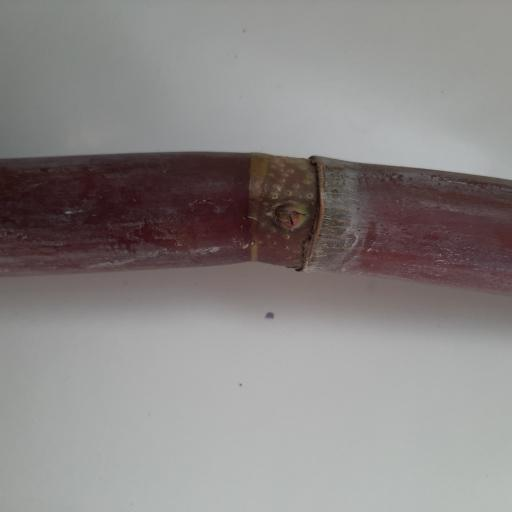Bud: (269, 198, 310, 233)
